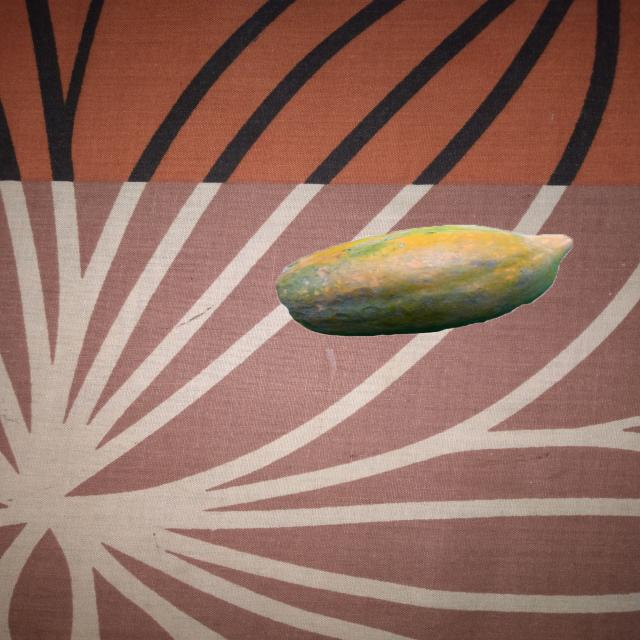Pepaya rippen: (270, 221, 572, 333)
